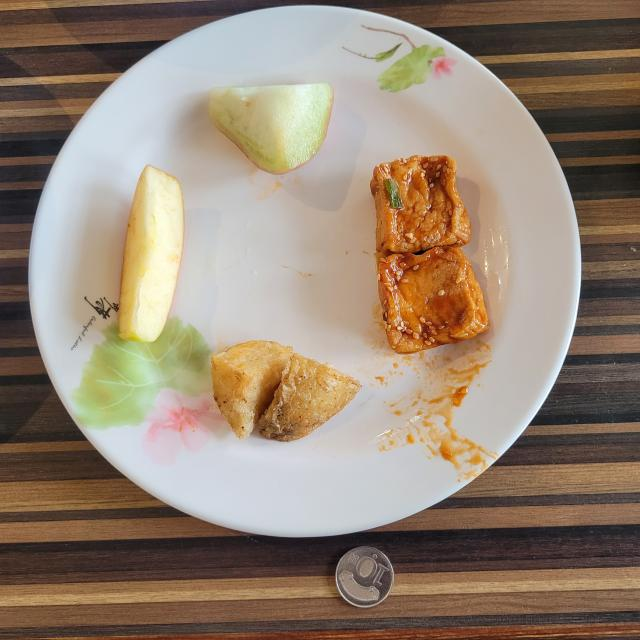apple -sliced-: (119, 165, 184, 341)
coin: (330, 542, 397, 612)
creamy tofu: (370, 155, 489, 354)
fried potato: (211, 341, 361, 441)
